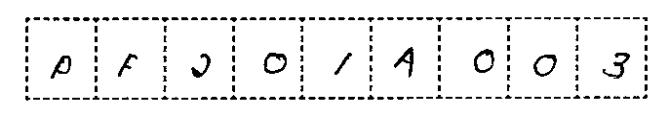0: (466, 44, 499, 80), (259, 46, 292, 81), (528, 50, 559, 81)
1: (326, 47, 356, 82)
2: (184, 47, 215, 82)
3: (599, 48, 633, 83)
F: (390, 44, 421, 84), (113, 48, 142, 81)
P: (45, 51, 79, 80)
